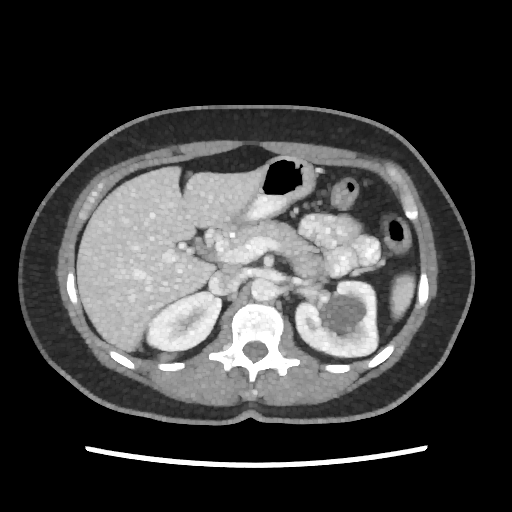Lesion: (315, 296, 370, 338)
